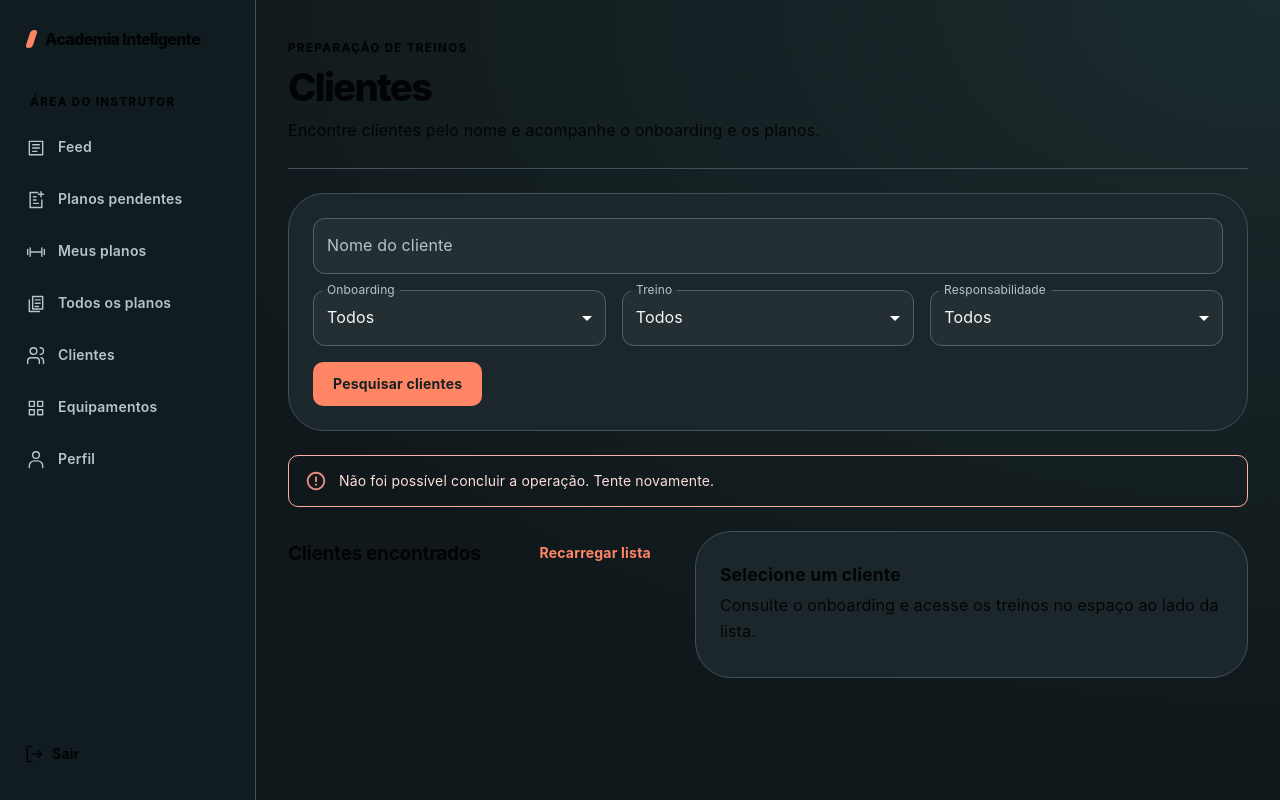
it: shows a controlled error and permits retry to an empty result
The width and height of the screenshot is (1280, 800).
expect the text "Não foi possível concluir a operação. Tente novamente." is shown: met, box [339,472,714,489]
Click the button "Recarregar lista": (595, 553) [519,531,671,575]
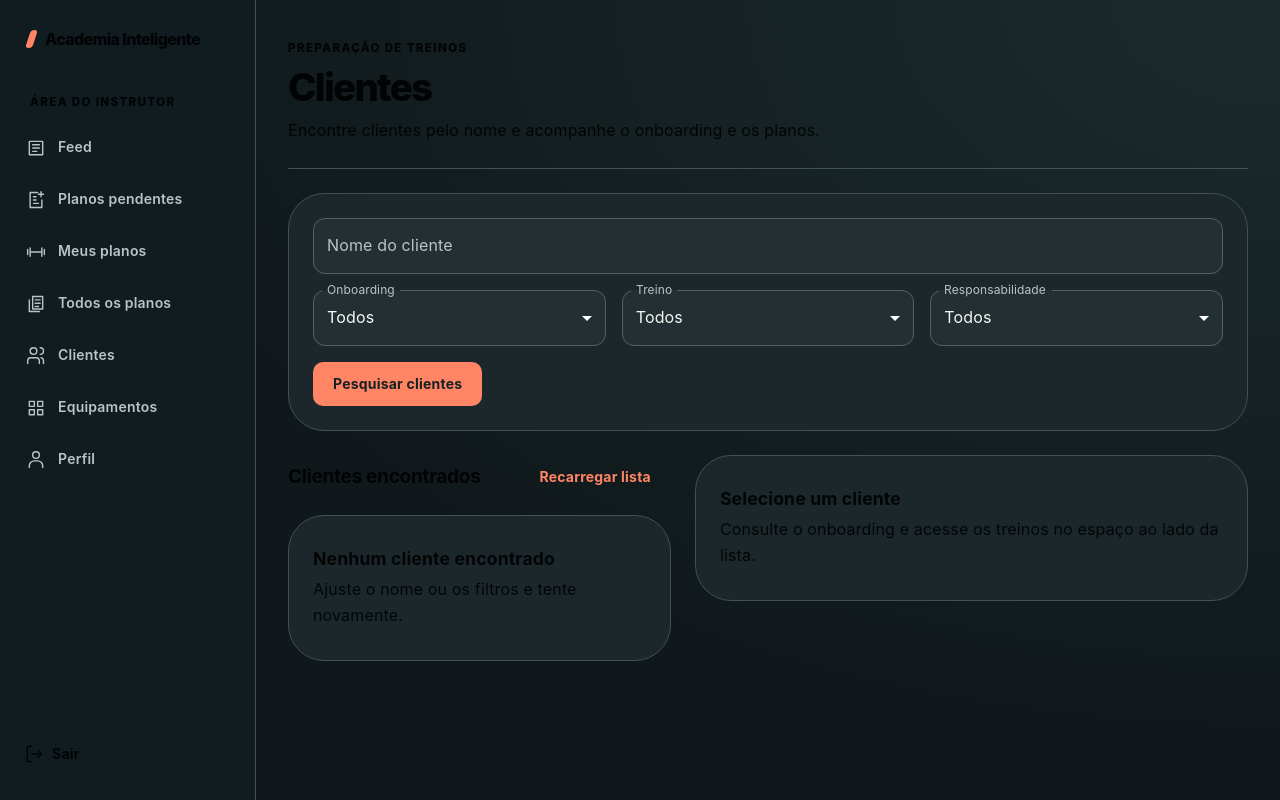
expect the heading "Nenhum cliente encontrado" is shown: met, box [313,548,555,570]
